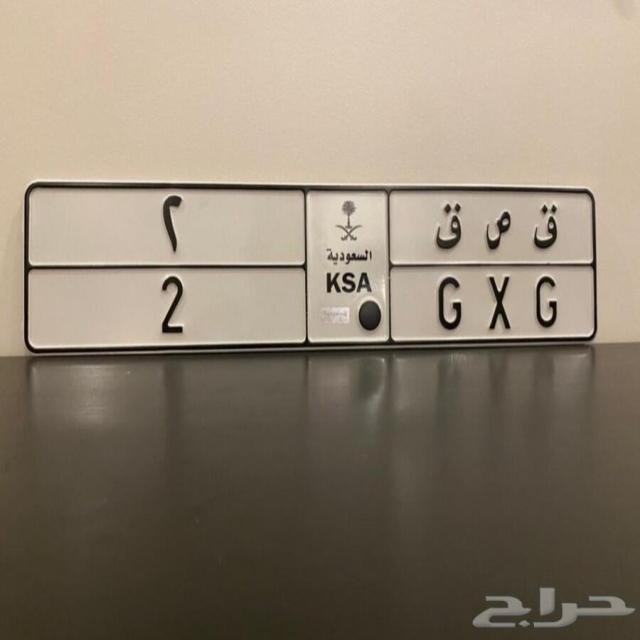license_plate: (26, 182, 602, 347), (137, 272, 567, 336)
